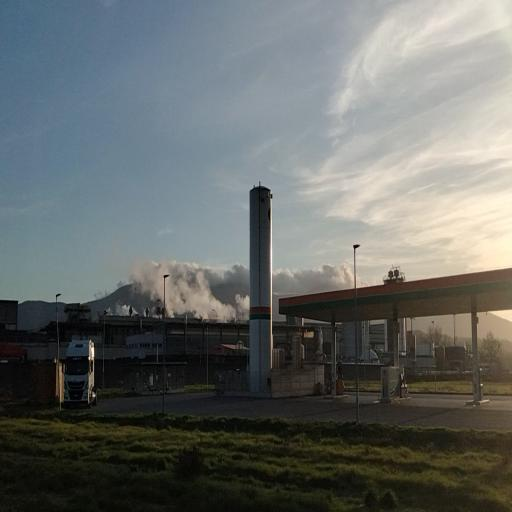leakage: (103, 253, 251, 325)
